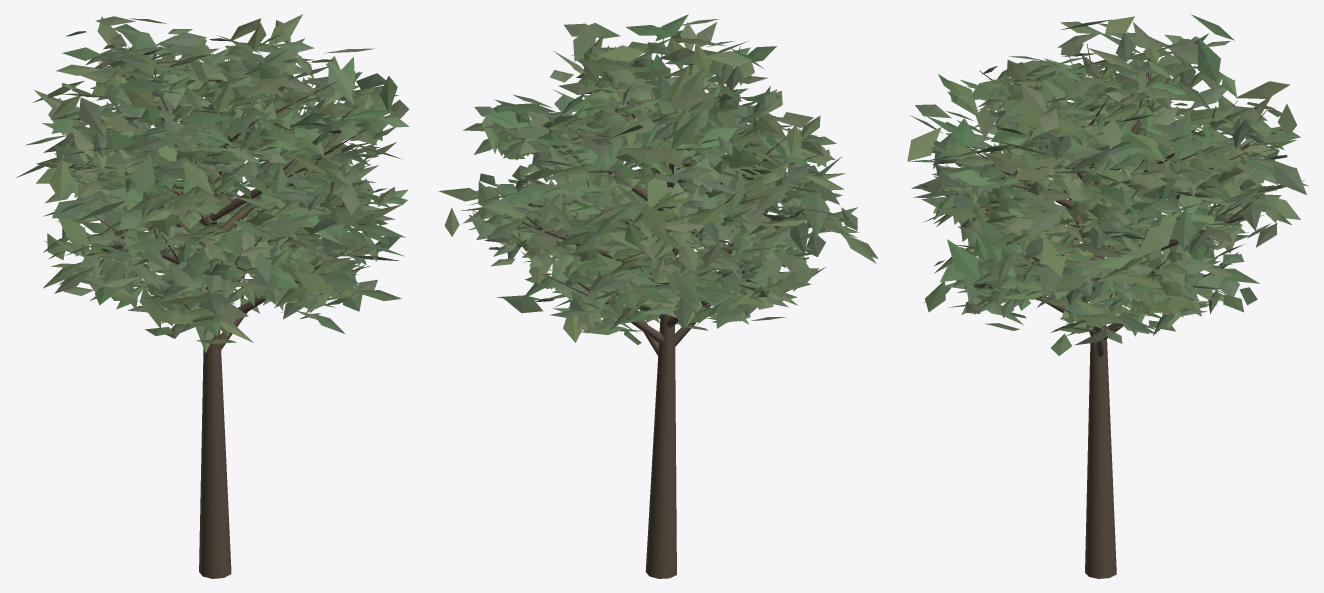
The model's file is Tree4.glb.
3 views of the same model, side by side, from view 1: azimuth 30°, elevation 25°; view 2: azimuth 150°, elevation 25°; view 3: azimuth 270°, elevation 25° (orthographic). The views are drawn at different scales.
Size of the model in its own units: 3.08 by 3.88 by 2.71.
